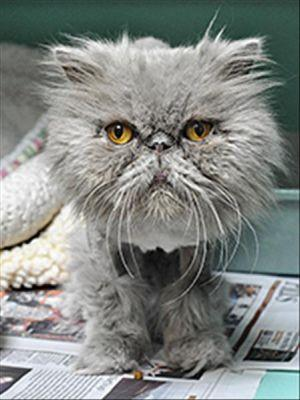persian: (30, 28, 287, 261)
